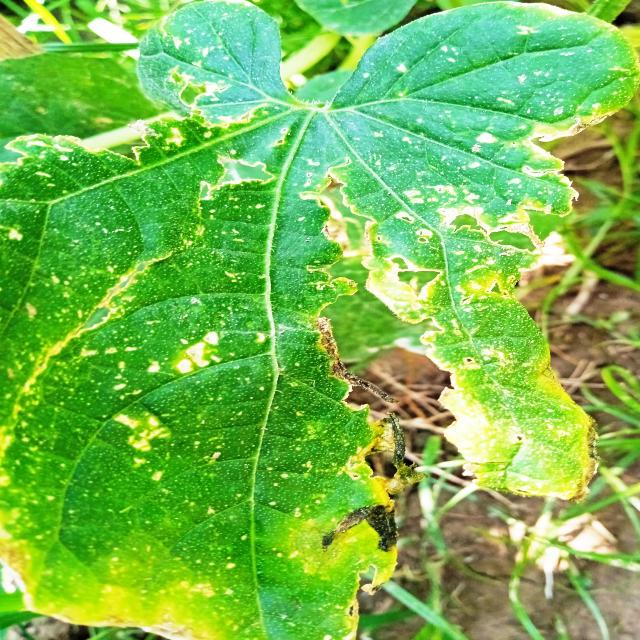Anthracnose: (299, 157, 443, 305), (446, 201, 539, 256), (193, 148, 277, 204)
